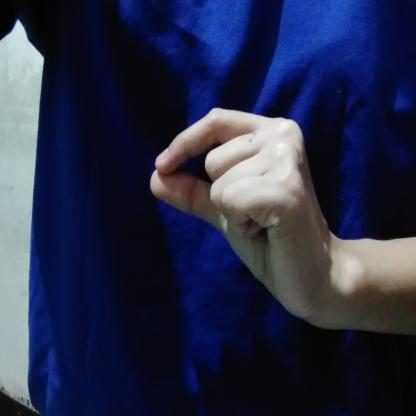nothing: (136, 96, 346, 336)
